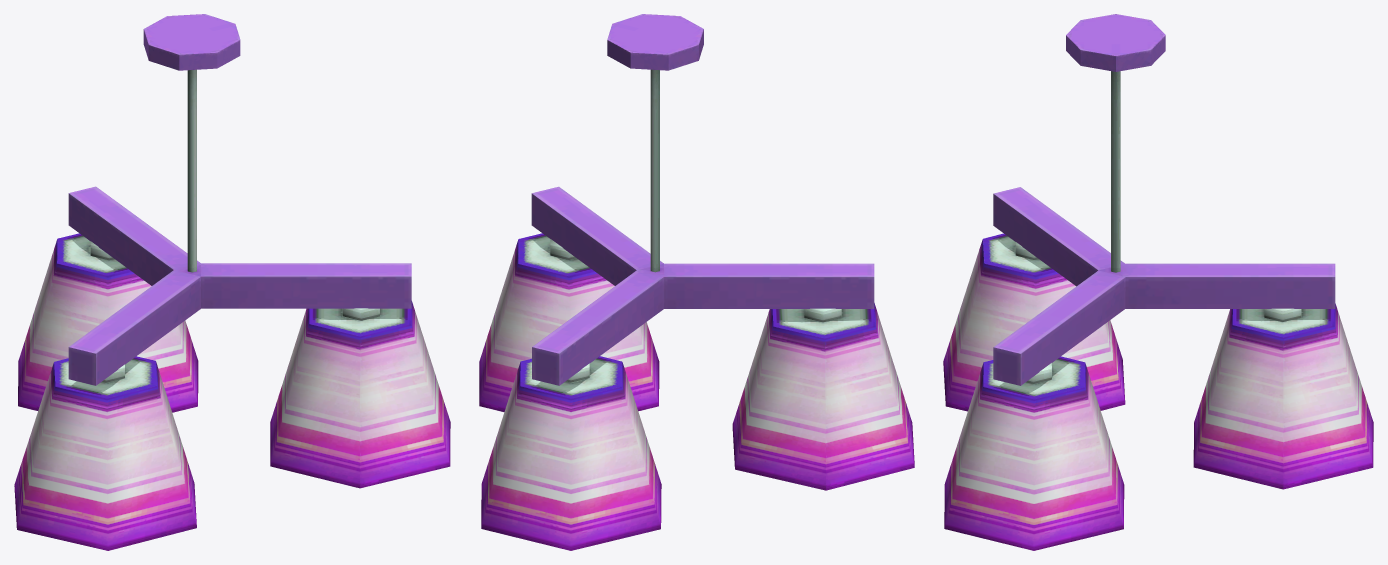
File: furni_0200602_02.FBX
3 renders of one model, left to right at view 1: azimuth 30°, elevation 25°; view 2: azimuth 150°, elevation 25°; view 3: azimuth 270°, elevation 25°, orthographic.
Visible parts, largest first — view 1: furni_0200602_02; view 2: furni_0200602_02; view 3: furni_0200602_02.
Boxes of the visible parts, x1=… form: furni_0200602_02: x1=14, y1=14, x2=450, y2=550; furni_0200602_02: x1=479, y1=14, x2=914, y2=550; furni_0200602_02: x1=943, y1=14, x2=1373, y2=550.
Size of the model in its own units: 77.07 by 69.74 by 66.26.
Materials: 1 (1 with a texture image).
